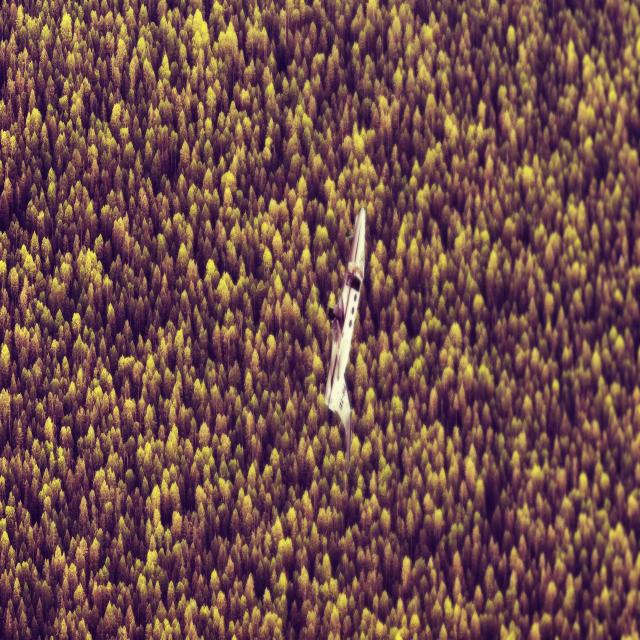airplane: (324, 205, 366, 470)
